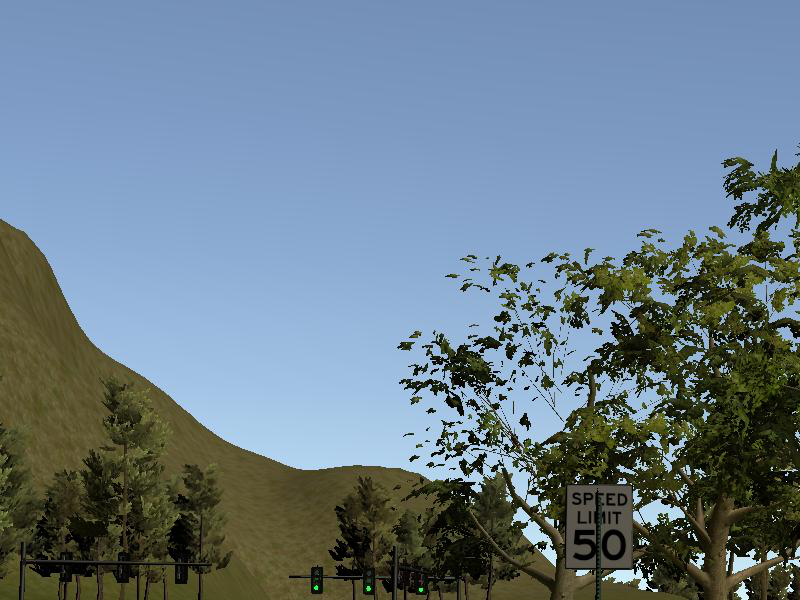green: (311, 565, 324, 594), (363, 568, 375, 596), (417, 570, 428, 596)
